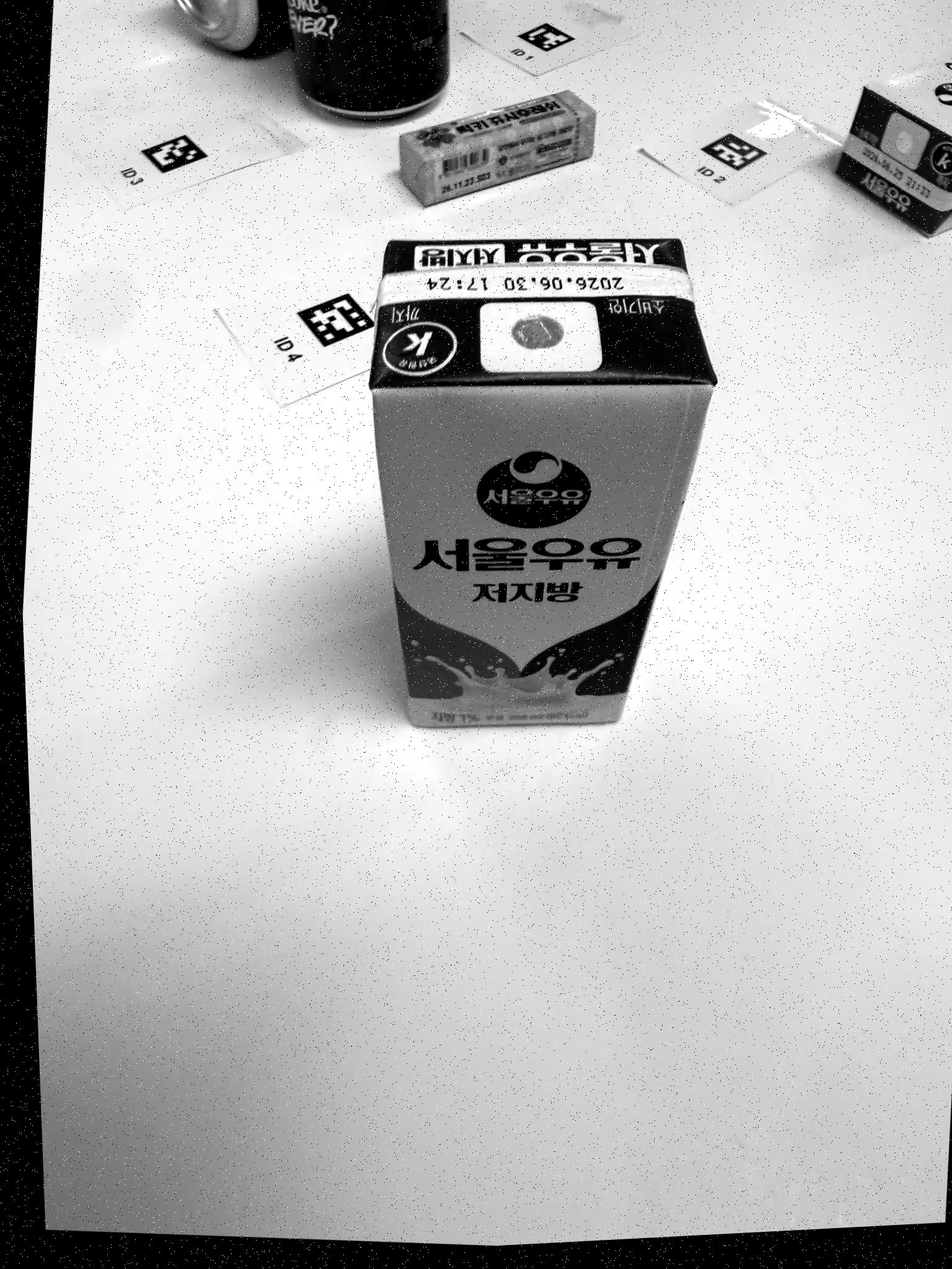milk_blue: (370, 238, 716, 727)
